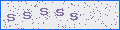s: (7, 14, 16, 21), (23, 12, 31, 19), (40, 8, 48, 15), (56, 9, 64, 16), (70, 13, 78, 20)
